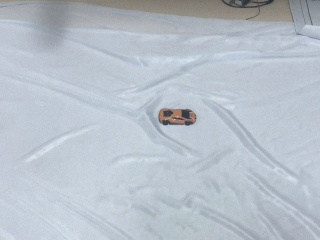toy_car: (158, 108, 197, 126)
